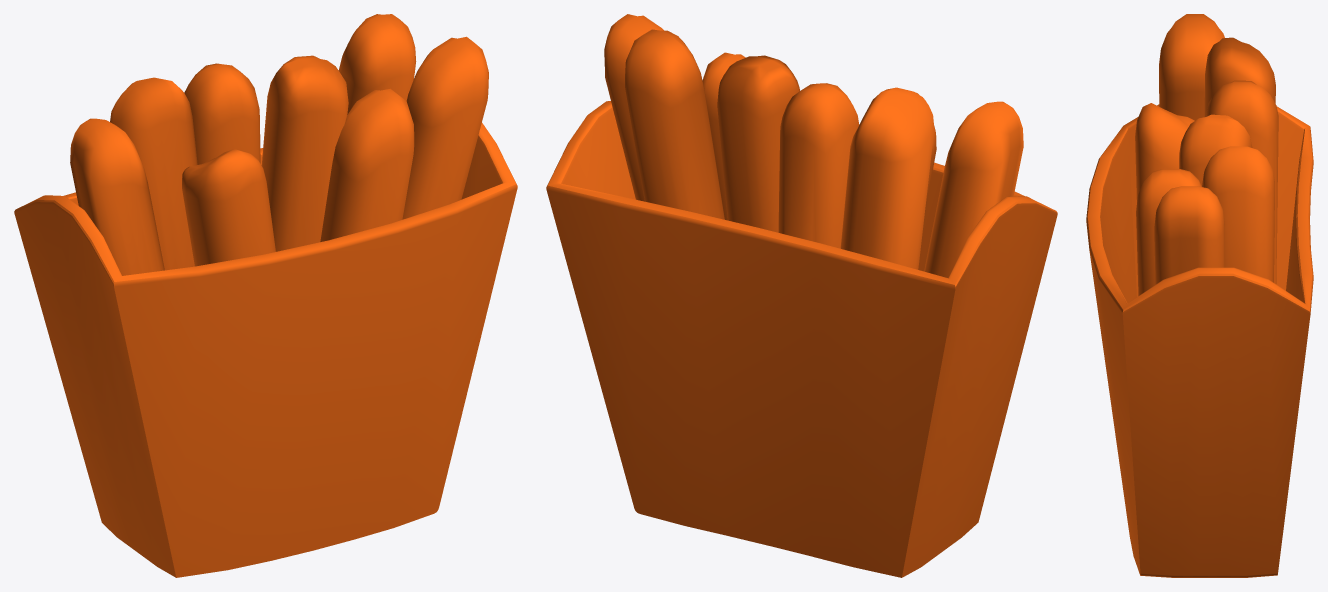
Rendered from Patato3.FBX.
3 views of the same model, side by side, from view 1: azimuth 30°, elevation 25°; view 2: azimuth 150°, elevation 25°; view 3: azimuth 270°, elevation 25° (orthographic). The views are drawn at different scales.
Visible parts, largest first — view 1: Patato3; view 2: Patato3; view 3: Patato3.
Boxes of the visible parts, x1,y1,x2,y2 form: Patato3: (14, 14, 517, 577); Patato3: (546, 14, 1057, 577); Patato3: (1086, 14, 1313, 577).
Size of the model in its own units: 296 by 321 by 153.
